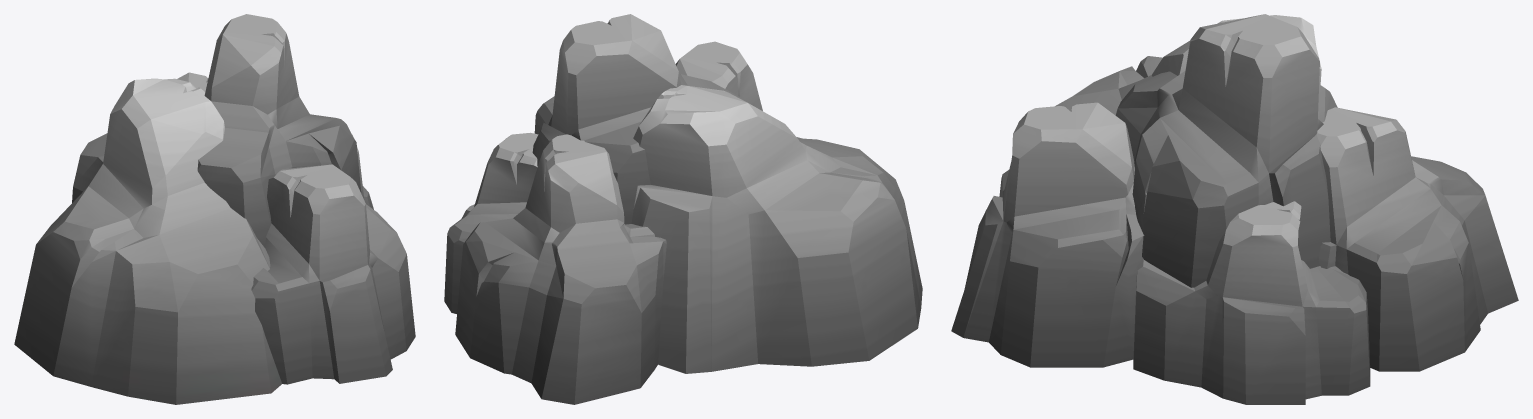
The model's file is rock-formation-2.glb.
The picture shows the model from 3 angles, left to right: view 1: azimuth 30°, elevation 25°; view 2: azimuth 150°, elevation 25°; view 3: azimuth 270°, elevation 25°; orthographic projection. The views are drawn at different scales.
Visible parts, largest first — view 1: RockFormation2; view 2: RockFormation2; view 3: RockFormation2.
Part boxes in pixels (x1=…): RockFormation2: x1=14, y1=14, x2=415, y2=404; RockFormation2: x1=444, y1=14, x2=922, y2=404; RockFormation2: x1=951, y1=14, x2=1518, y2=404.
Bounding box in the file's own units: 8.07 × 5.2 × 8.91.
1 material, 1 textured.
